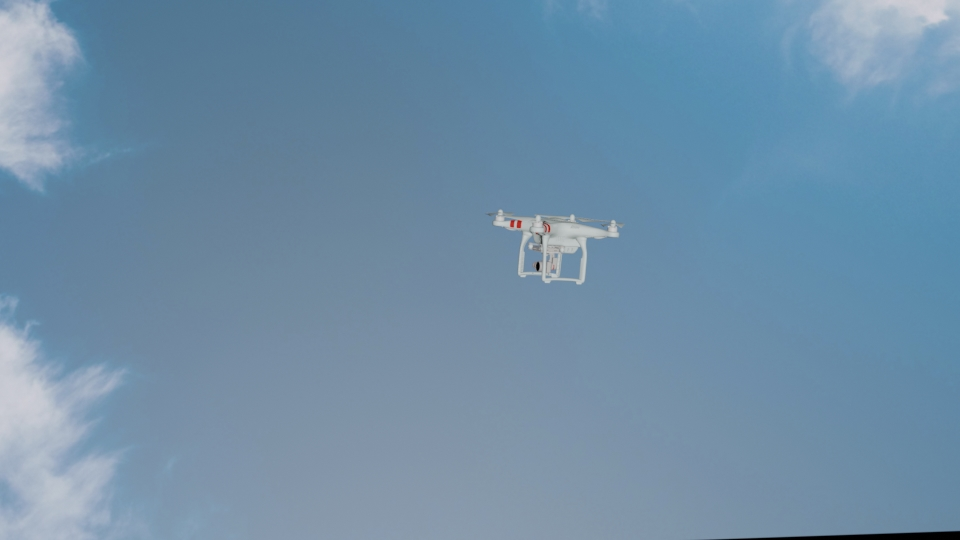drone: (486, 206, 621, 286)
